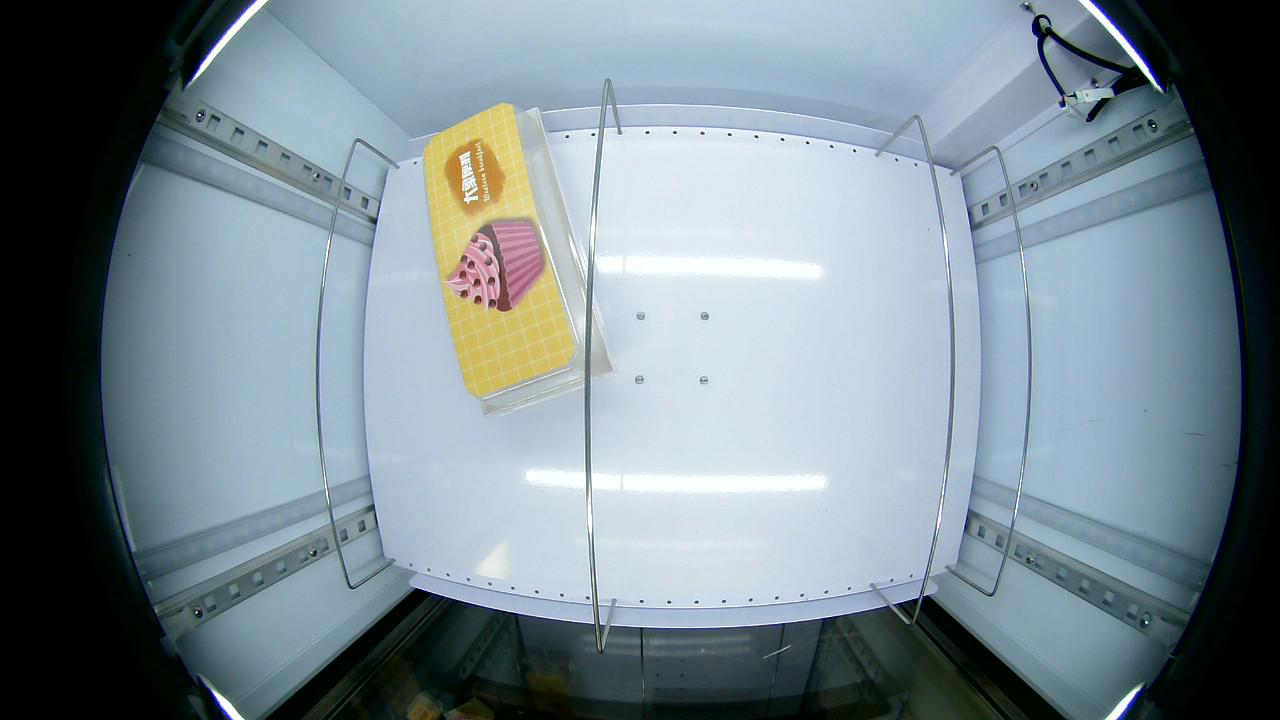goods: (443, 215, 550, 317)
